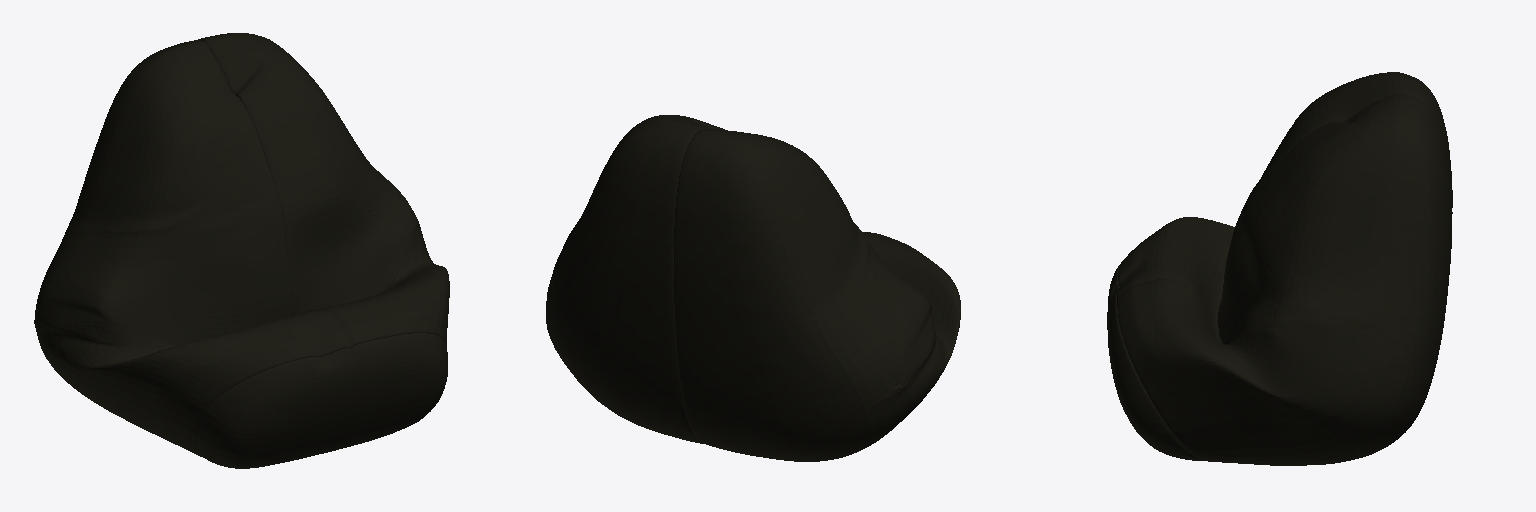
Rendered from Tapicerk_i_krzesla_saco.obj.
3 renders of one model, left to right at view 1: azimuth 30°, elevation 25°; view 2: azimuth 150°, elevation 25°; view 3: azimuth 270°, elevation 25°, orthographic.
Visible parts, largest first — view 1: Box001; view 2: Box001; view 3: Box001.
Part boxes in pixels (x1,y1,x2,y2): Box001: (34,33,449,468); Box001: (546,115,960,461); Box001: (1107,72,1452,465).
Bounding box in the file's own units: 94.38 × 84.14 × 77.77.